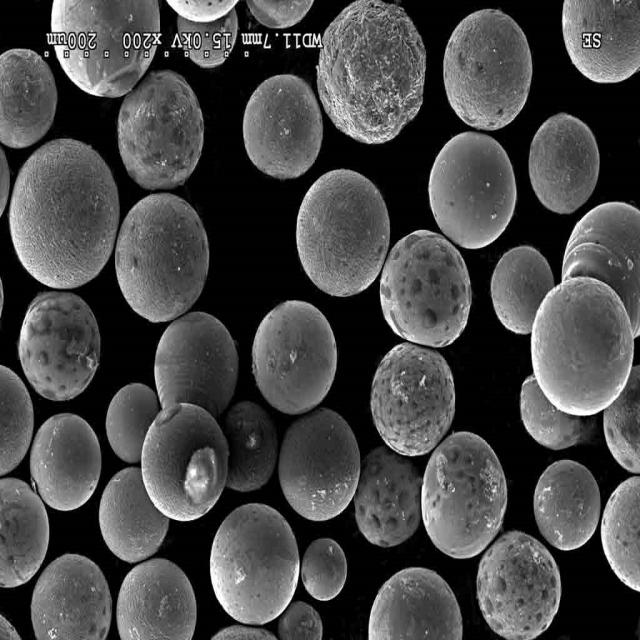cells: (6, 136, 120, 290), (314, 0, 429, 149), (529, 275, 635, 415), (112, 189, 214, 328), (294, 162, 390, 304), (438, 2, 538, 136), (374, 224, 476, 352), (206, 496, 304, 627), (137, 396, 234, 523), (419, 426, 510, 559), (112, 67, 210, 190), (48, 0, 162, 102), (427, 128, 517, 250), (252, 299, 343, 419), (559, 202, 640, 336), (368, 346, 457, 461), (17, 286, 102, 405), (240, 67, 326, 184), (473, 528, 563, 638), (151, 314, 241, 424), (522, 104, 606, 220), (276, 407, 359, 521), (24, 408, 102, 520), (364, 561, 468, 640), (95, 460, 174, 563), (26, 548, 113, 640), (349, 447, 419, 555), (208, 394, 280, 498), (114, 557, 200, 640), (560, 0, 638, 87), (520, 372, 601, 453), (488, 236, 551, 340), (529, 460, 599, 552), (0, 44, 57, 152), (0, 474, 50, 588), (599, 475, 640, 595), (104, 382, 161, 468), (601, 370, 640, 478), (0, 366, 33, 474), (300, 538, 349, 602)
